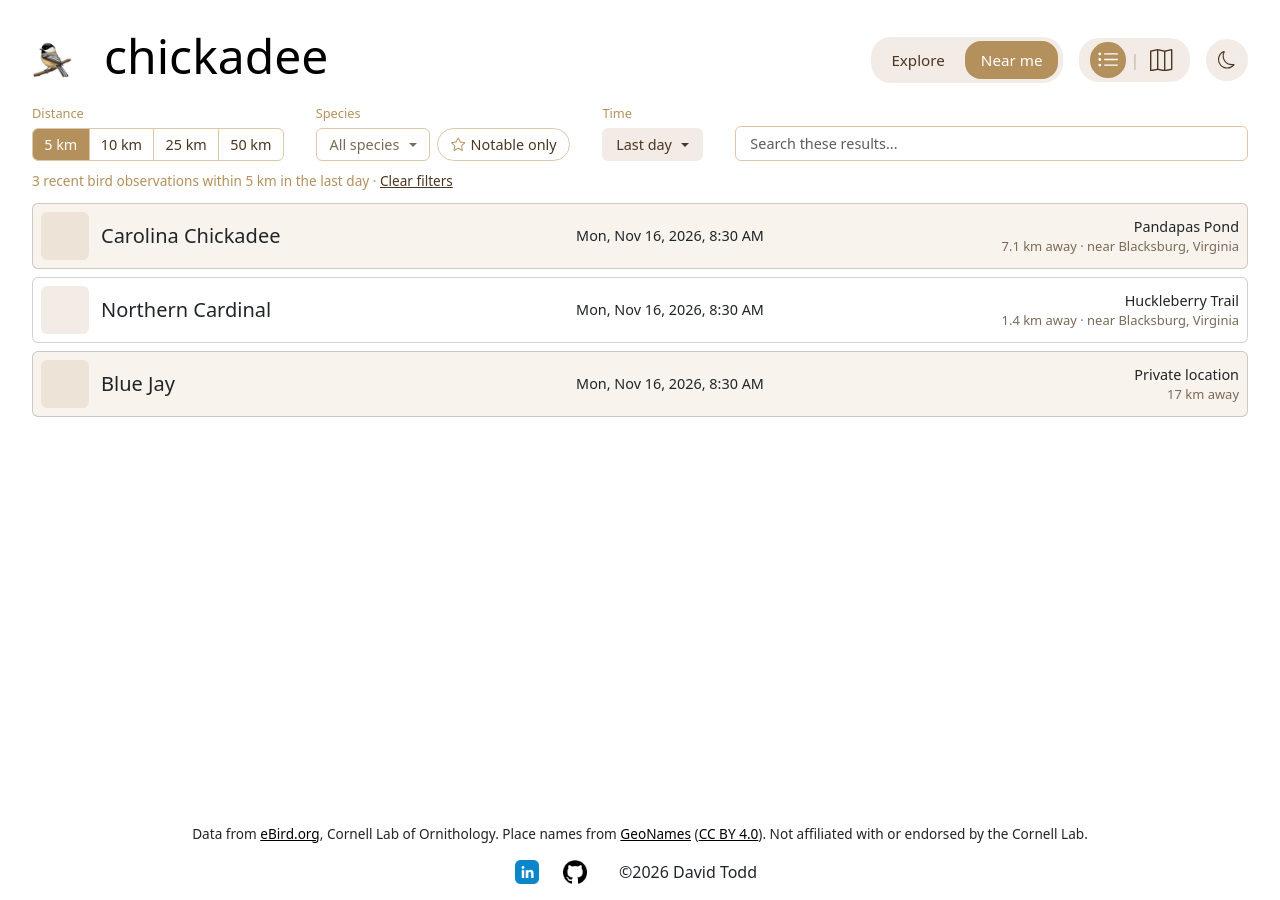
Test: Near me page › searches the nearby results and summarises the search
This screenshot has width=1280, height=900.
Expected: the text "Blue Jay" is shown, x1=101 y1=370 x2=175 y2=397
Type "chick" into the search field at (992,144), box x1=735 y1=126 x2=1248 y2=161
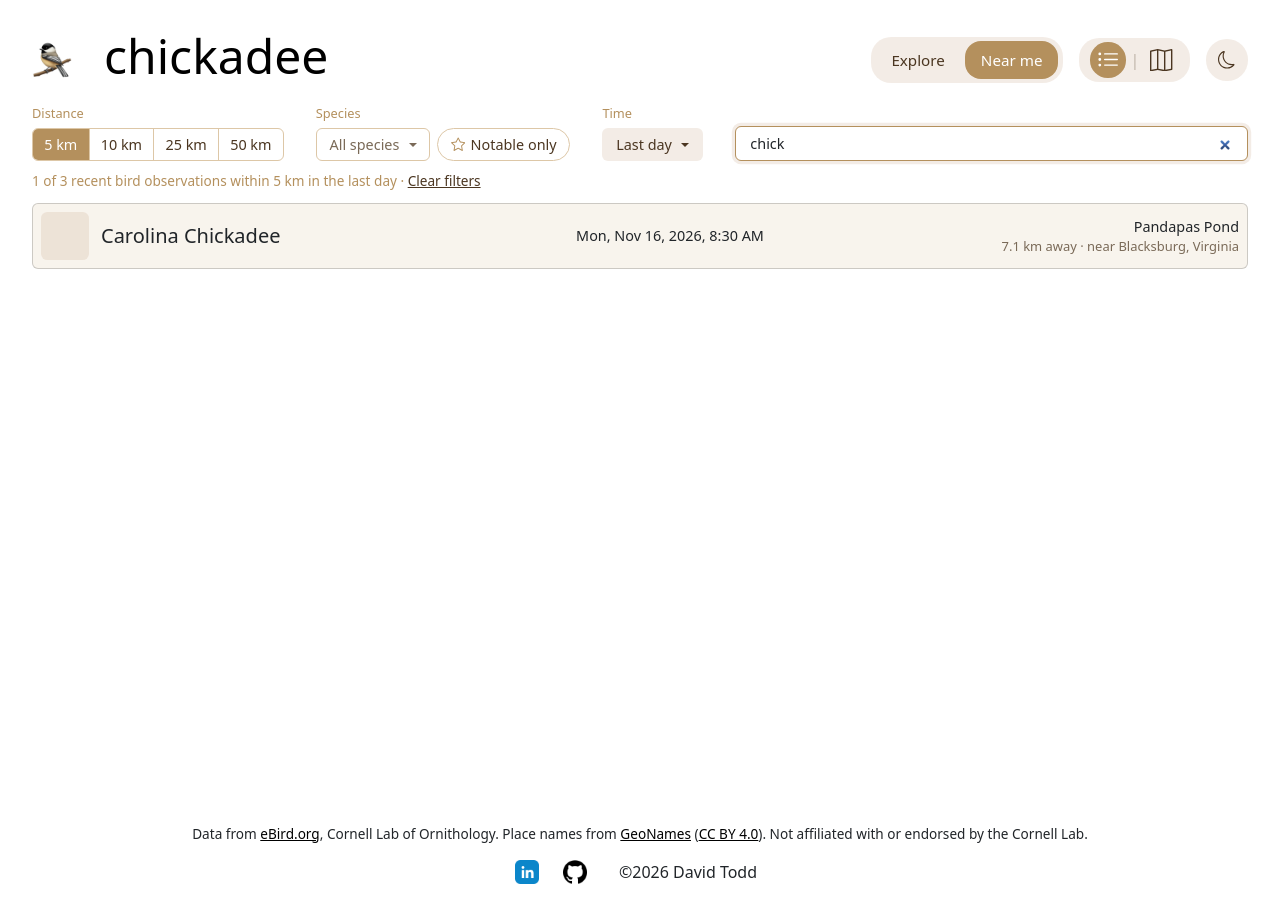
Expected: the element with class "observation-count" shows "1 of 3 recent bird observations within 5 km in the last day", x1=32 y1=171 x2=481 y2=191
